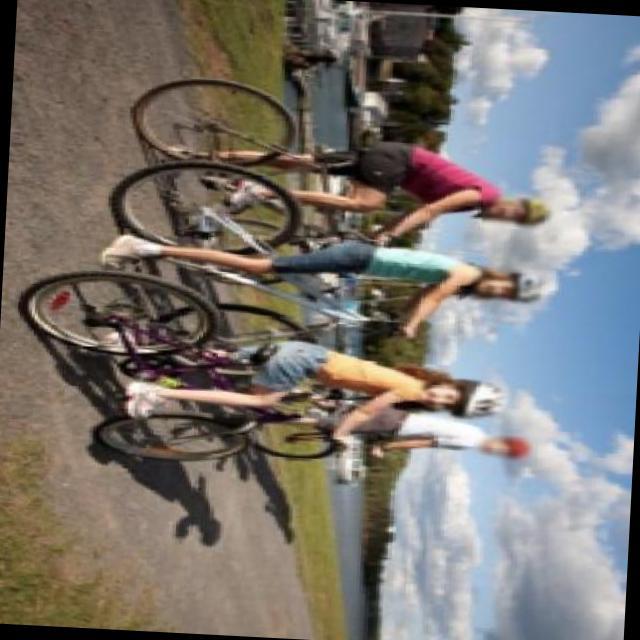With Helmet: (410, 376, 510, 426), (469, 264, 555, 310), (478, 193, 562, 231), (470, 431, 536, 465)
